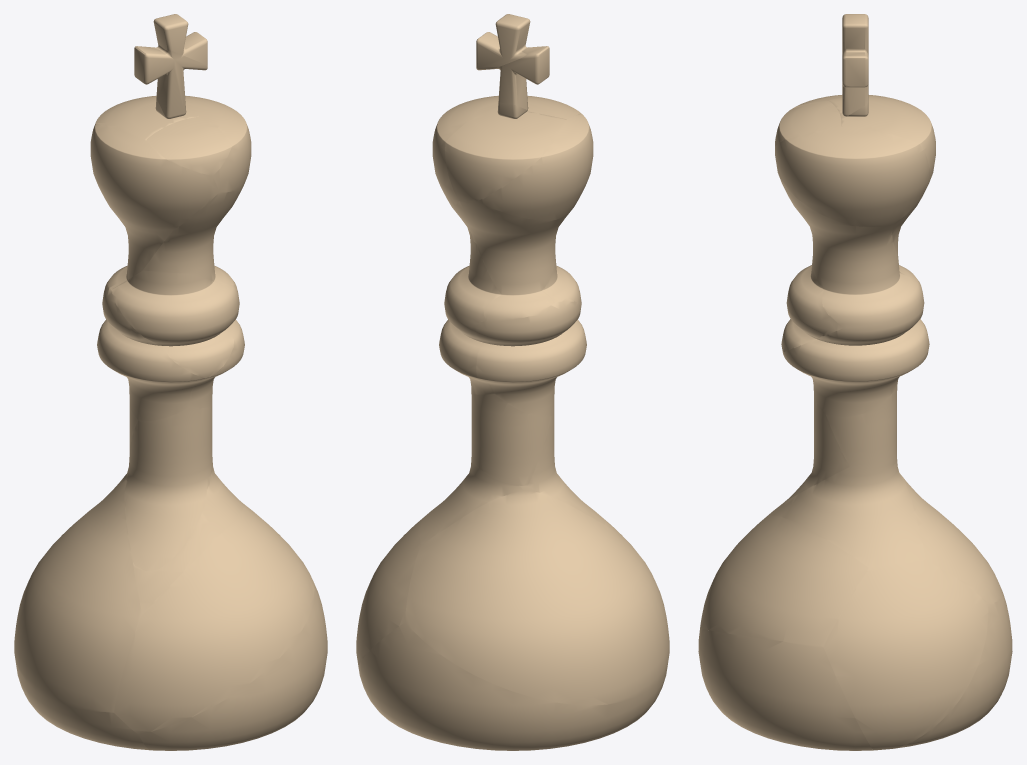
Rendered from king.glb.
3 renders of one model, left to right at view 1: azimuth 30°, elevation 25°; view 2: azimuth 150°, elevation 25°; view 3: azimuth 270°, elevation 25°, orthographic.
Visible parts, largest first — view 1: chunk-03.011, chunk-04.011, chunk-06.011, chunk-01.011, chunk-10.011, chunk-13.009, chunk-09.011, chunk-16.003, chunk-11.011, chunk-05.011, chunk-00.011, chunk-14.007 (+4 smaller); view 2: chunk-04.011, chunk-00.011, chunk-09.011, chunk-12.009, chunk-15.007, chunk-13.009, chunk-07.011, chunk-02.011, chunk-05.011, chunk-16.003, chunk-11.011, chunk-08.011 (+4 smaller); view 3: chunk-02.011, chunk-03.011, chunk-01.011, chunk-14.007, chunk-05.011, chunk-11.011, chunk-08.011, chunk-00.011, chunk-04.011, chunk-07.011, chunk-15.007, chunk-10.011 (+3 smaller).
Boxes of the visible parts, left/top/right/bottom form: chunk-03.011: left=113, top=505, right=314, bottom=734; chunk-04.011: left=14, top=473, right=141, bottom=712; chunk-06.011: left=124, top=407, right=212, bottom=571; chunk-01.011: left=139, top=573, right=327, bottom=750; chunk-10.011: left=112, top=271, right=239, bottom=378; chunk-13.009: left=90, top=123, right=218, bottom=230; chunk-09.011: left=97, top=282, right=206, bottom=420; chunk-16.003: left=134, top=46, right=231, bottom=175; chunk-11.011: left=142, top=191, right=240, bottom=286; chunk-05.011: left=126, top=463, right=244, bottom=612; chunk-00.011: left=14, top=650, right=148, bottom=749; chunk-14.007: left=185, top=95, right=251, bottom=192; chunk-04.011: left=405, top=491, right=669, bottom=705; chunk-00.011: left=358, top=622, right=667, bottom=750; chunk-09.011: left=475, top=301, right=586, bottom=417; chunk-12.009: left=453, top=201, right=567, bottom=321; chunk-15.007: left=445, top=102, right=566, bottom=201; chunk-13.009: left=477, top=113, right=593, bottom=220; chunk-07.011: left=471, top=393, right=551, bottom=486; chunk-02.011: left=356, top=515, right=426, bottom=667; chunk-05.011: left=420, top=455, right=629, bottom=544; chunk-16.003: left=492, top=43, right=580, bottom=119; chunk-11.011: left=445, top=227, right=555, bottom=323; chunk-08.011: left=439, top=298, right=494, bottom=394; chunk-02.011: left=823, top=560, right=988, bottom=750; chunk-03.011: left=700, top=515, right=868, bottom=646; chunk-01.011: left=698, top=627, right=873, bottom=750; chunk-14.007: left=775, top=126, right=929, bottom=227; chunk-05.011: left=767, top=462, right=926, bottom=567; chunk-11.011: left=777, top=170, right=923, bottom=327; chunk-08.011: left=783, top=301, right=929, bottom=417; chunk-00.011: left=897, top=598, right=1012, bottom=748; chunk-04.011: left=900, top=474, right=1004, bottom=603; chunk-07.011: left=825, top=383, right=897, bottom=467; chunk-15.007: left=827, top=96, right=935, bottom=186; chunk-10.011: left=781, top=260, right=843, bottom=352.
Size of the model in its own units: 0.7416 by 1.75 by 0.7416.
